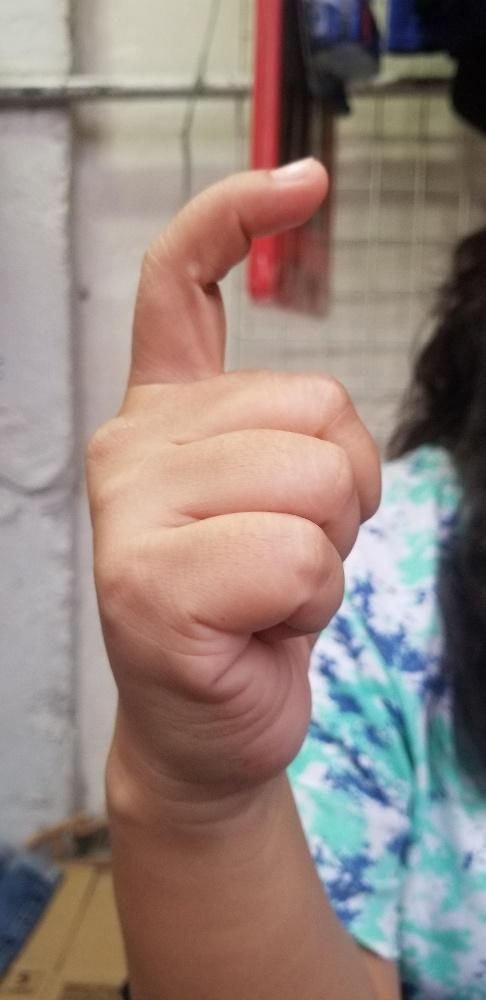x: (82, 154, 385, 786)
